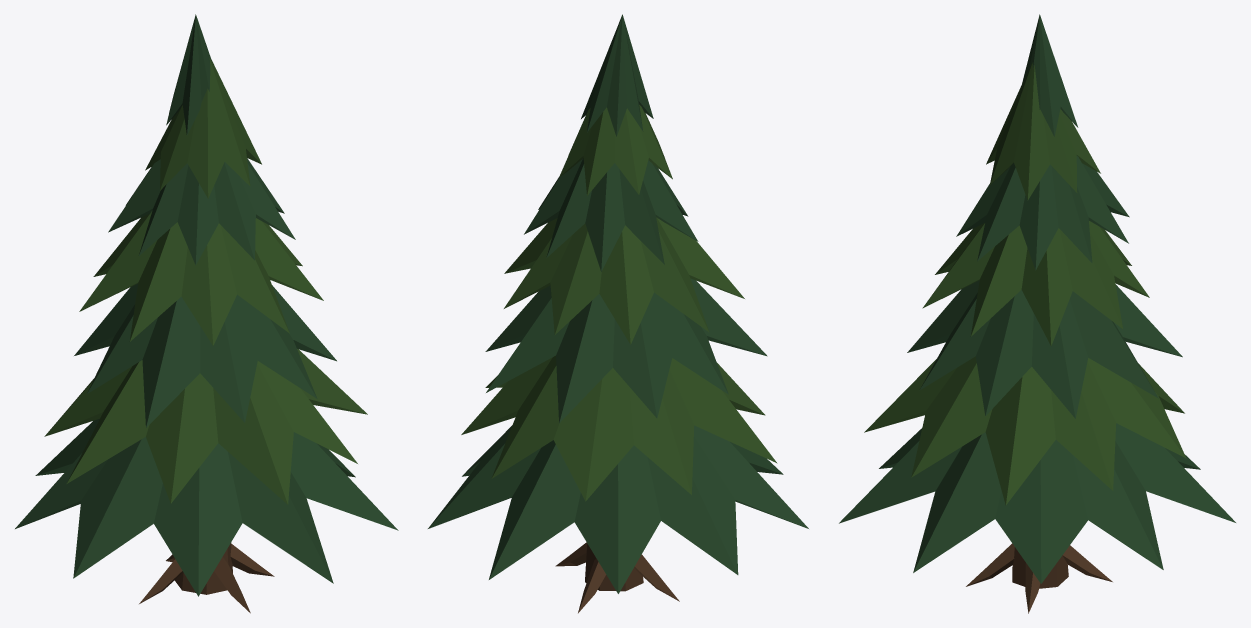
Rendered from tree_pine.glb.
The picture shows the model from 3 angles, left to right: view 1: azimuth 30°, elevation 25°; view 2: azimuth 150°, elevation 25°; view 3: azimuth 270°, elevation 25°; orthographic projection. The views are drawn at different scales.
Visible parts, largest first — view 1: tree_pine; view 2: tree_pine; view 3: tree_pine.
Part boxes in pixels (x1,y1,x2,y2): tree_pine: (15, 14, 398, 613); tree_pine: (428, 14, 808, 613); tree_pine: (839, 14, 1235, 613).
Size of the model in its own units: 2.64 by 4.6 by 2.94.
